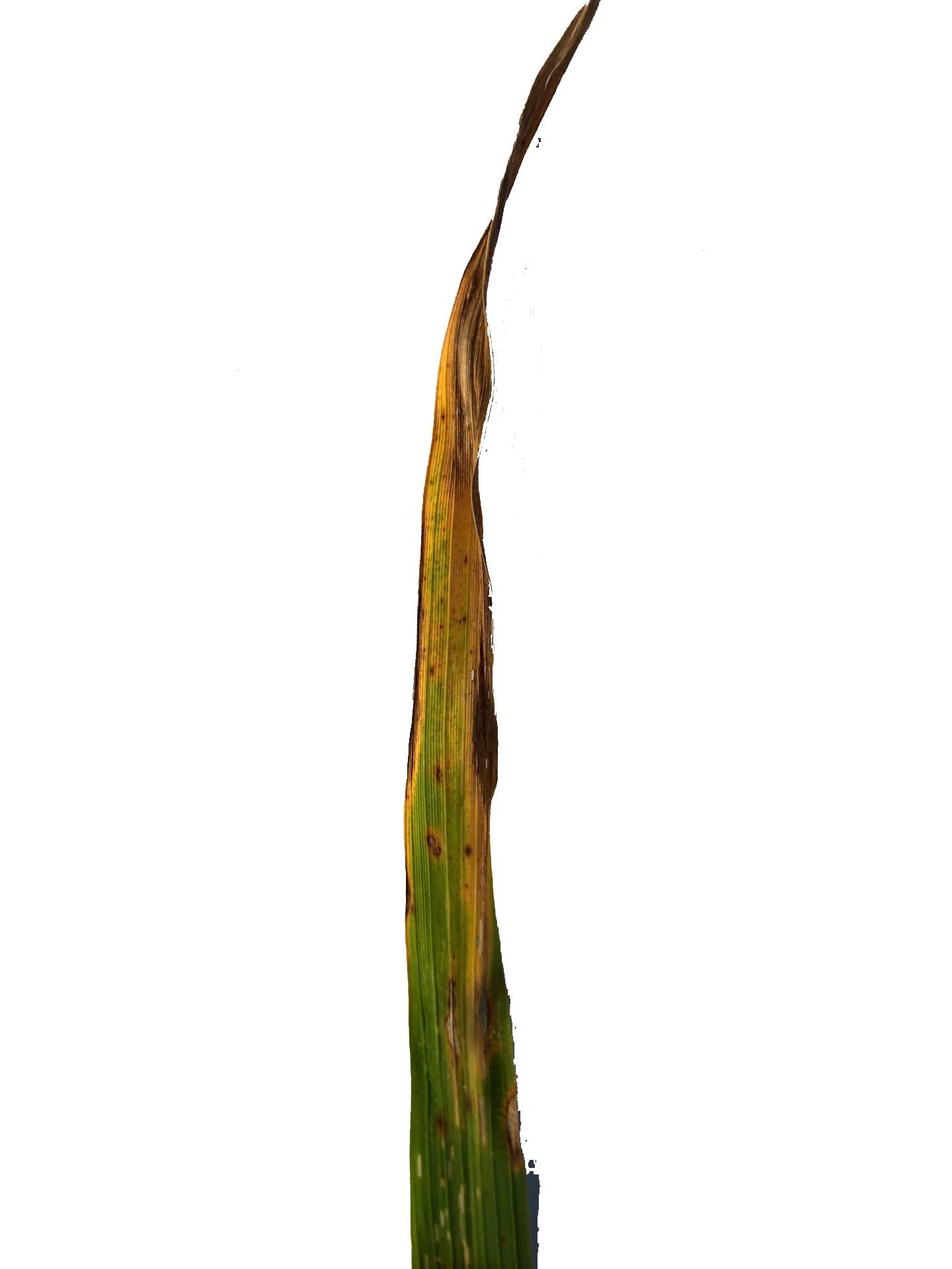Tungro: (403, 0, 603, 1269)
